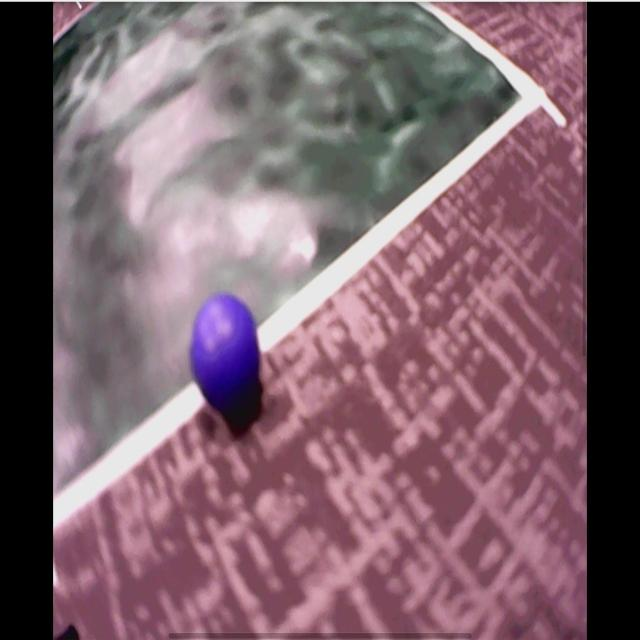ball: (193, 295, 260, 400)
